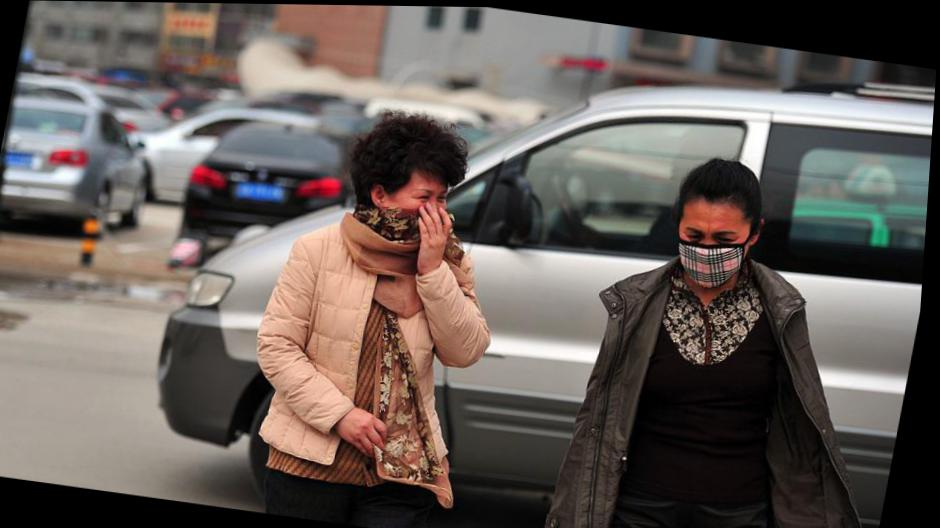OK: (675, 216, 753, 290)
WRONG: (375, 166, 455, 244)
